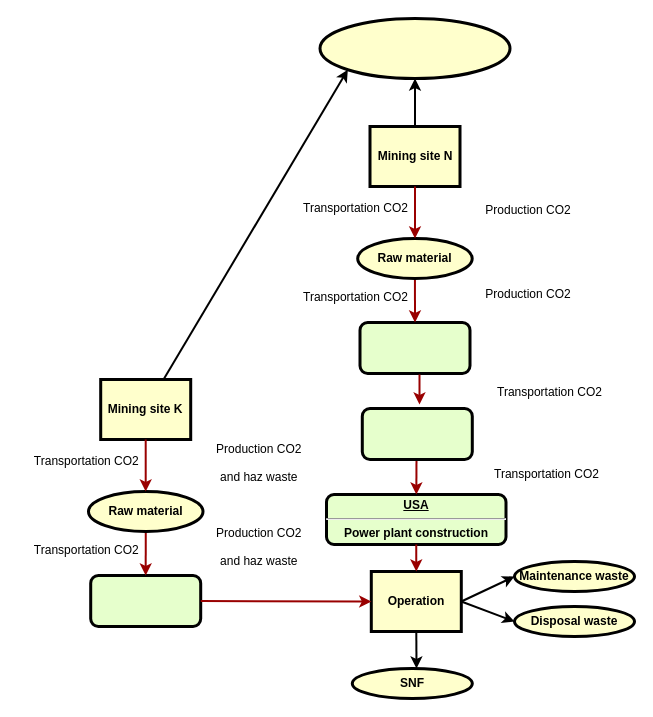
Image size: 653x717. Some labels were removed from this diagram. The shapes that lost their labels are listed below. From the top down, each one's box as (x1, y1, x2, y2) in pixels, then its label:
(318, 16, 511, 80): Mining waste, tailings, CO2
(358, 320, 471, 374): Country A Component X
(360, 406, 473, 460): Country B Assembly Y
(89, 574, 202, 628): Country A Uranium
